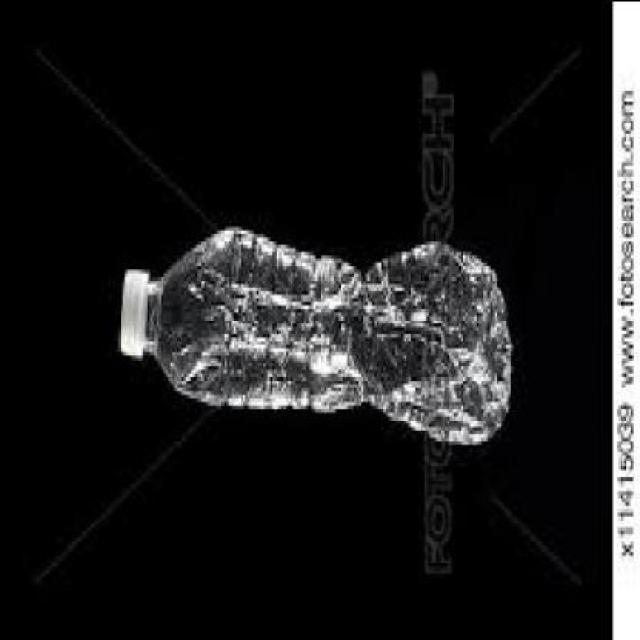PLASTIC: (114, 232, 511, 451), (116, 272, 150, 361)
